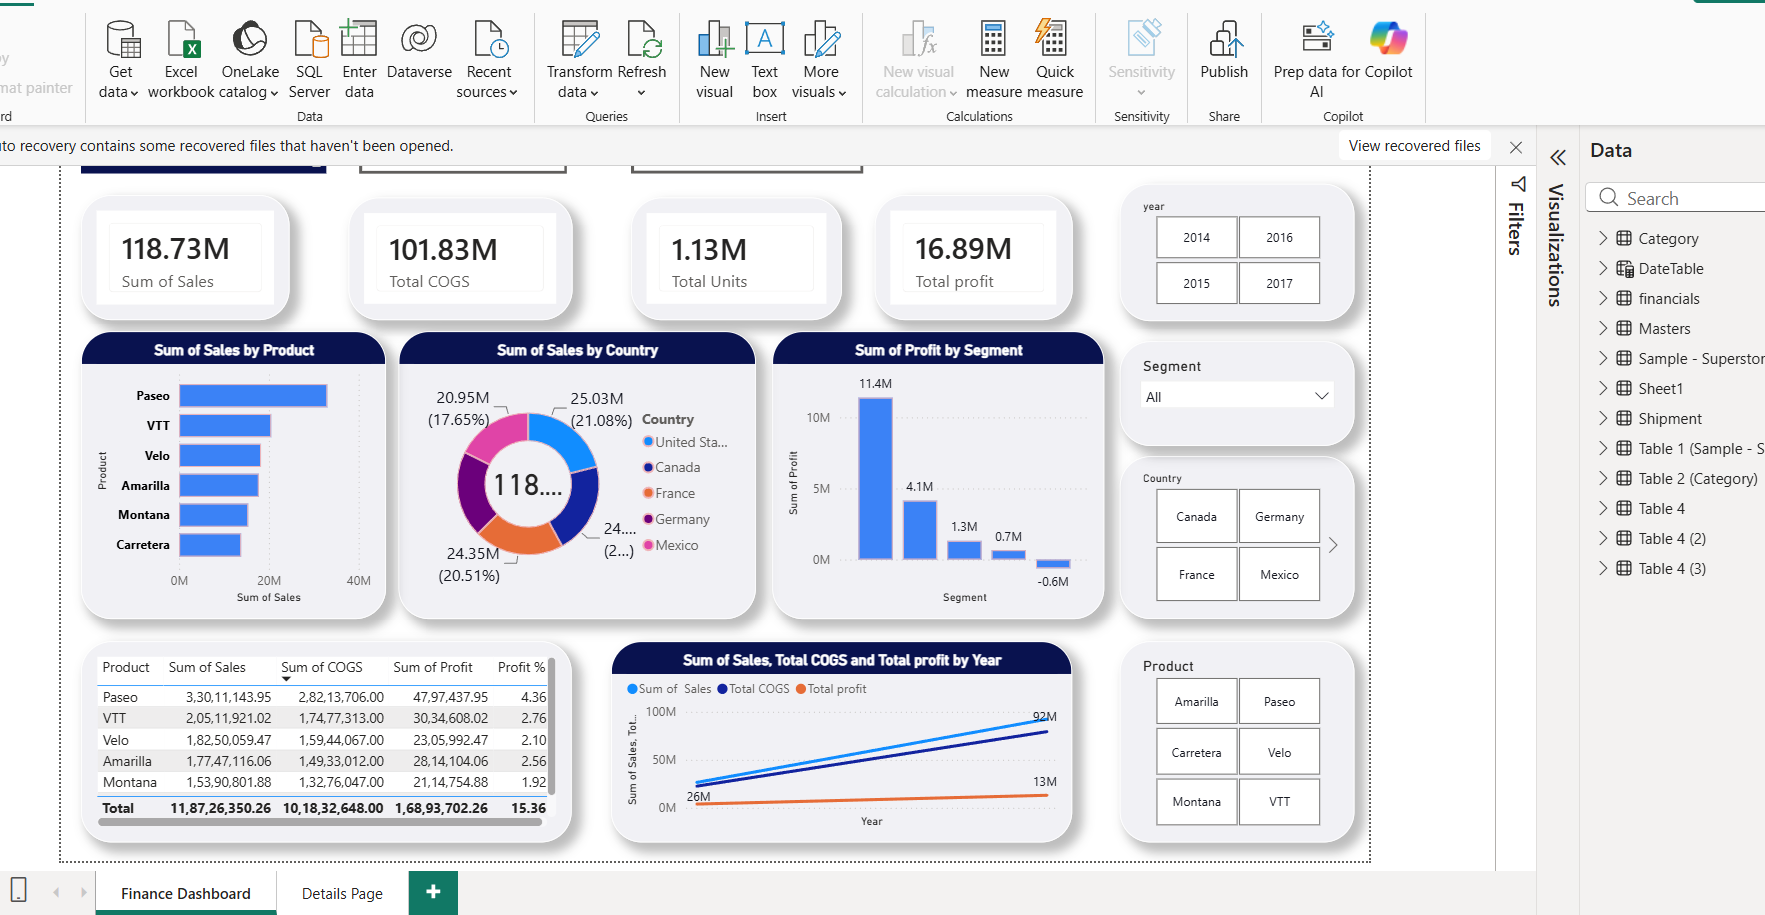

The dashboard page shown, as its layout file describes it:
{"tool":"powerbi","page":{"name":"Finance Dashboard","canvas":[1280,720],"ordinal":0},"visuals":[{"type":"cardVisual","fields":{"Data":["Sum(financials. Sales)"]},"box":[19.6,68.5,204.2,122.3],"z":0},{"type":"cardVisual","fields":{"Data":["financials.Total COGS"]},"box":[281.3,70.9,218.9,119.8],"z":1000},{"type":"cardVisual","fields":{"Data":["financials.Total Units"]},"box":[557.6,70.9,206.7,119.8],"z":2000},{"type":"cardVisual","fields":{"Data":["financials.Total profit"]},"box":[796.1,68.5,193.2,122.3],"z":3000},{"type":"clusteredBarChart","fields":{"Y":["Sum(financials. Sales)"],"Category":["financials.Product"]},"box":[19.4,201.4,298.4,281.4],"z":4000},{"type":"donutChart","fields":{"Y":["Sum(financials. Sales)"],"Category":["financials.Country"]},"box":[330,201.4,349.4,281.4],"z":5000},{"type":"lineChart","fields":{"Y":["Sum(financials. Sales)","financials.Total COGS","financials.Total profit"],"Category":["financials.Year"]},"box":[538.6,504.6,451.3,196.5],"z":6000},{"type":"clusteredColumnChart","fields":{"Category":["financials.Segment"],"Y":["Sum(financials.Profit)"]},"box":[696.3,201.4,324.9,281.2],"z":7000},{"type":"slicer","fields":{"Values":["financials.Segment"]},"box":[1035.7,211.6,229.9,102.7],"z":8000},{"type":"slicer","fields":{"Values":["financials.Country"]},"box":[1035.7,324.1,229.9,159],"z":9000},{"type":"slicer","fields":{"Values":["financials.Product"]},"box":[1035.7,505,229.9,196.9],"z":10000},{"type":"slicer","fields":{"Values":["DateTable.year"]},"box":[1035.7,57.5,229.9,134.5],"z":11000},{"type":"actionButton","box":[281.3,1.2,223.8,56.3],"z":12000},{"type":"actionButton","box":[557.6,14.7,227.4,33],"z":13000},{"type":"textbox","box":[19.6,14.7,239.7,33],"z":15000},{"type":"tableEx","fields":{"Values":["financials.Product","Sum(financials. Sales)","Sum(financials.COGS)","Sum(financials.Profit)","financials.Profit %"]},"box":[19.4,504.6,480.4,196.5],"z":16000},{"type":"textbox","box":[1084.7,14.7,154.1,33],"z":17000}]}

Visuals, with their boxes on the page's 1280x720 design canvas (x1, y1, x2, y2). These are canvas units, not pixel positions in the 1765x915 screenshot, which may show the page scaled, cropped or inside an application window:
cardVisual - Sum(financials. Sales): [x1=20, y1=68, x2=224, y2=191]
cardVisual - financials.Total COGS: [x1=281, y1=71, x2=500, y2=191]
cardVisual - financials.Total Units: [x1=558, y1=71, x2=764, y2=191]
cardVisual - financials.Total profit: [x1=796, y1=68, x2=989, y2=191]
clusteredBarChart - Sum(financials. Sales) x financials.Product: [x1=19, y1=201, x2=318, y2=483]
donutChart - Sum(financials. Sales) x financials.Country: [x1=330, y1=201, x2=679, y2=483]
lineChart - Sum(financials. Sales) x financials.Total COGS: [x1=539, y1=505, x2=990, y2=701]
clusteredColumnChart - financials.Segment x Sum(financials.Profit): [x1=696, y1=201, x2=1021, y2=483]
slicer - financials.Segment: [x1=1036, y1=212, x2=1266, y2=314]
slicer - financials.Country: [x1=1036, y1=324, x2=1266, y2=483]
slicer - financials.Product: [x1=1036, y1=505, x2=1266, y2=702]
slicer - DateTable.year: [x1=1036, y1=58, x2=1266, y2=192]
actionButton: [x1=281, y1=1, x2=505, y2=58]
actionButton: [x1=558, y1=15, x2=785, y2=48]
textbox: [x1=20, y1=15, x2=259, y2=48]
tableEx - financials.Product x Sum(financials. Sales): [x1=19, y1=505, x2=500, y2=701]
textbox: [x1=1085, y1=15, x2=1239, y2=48]
